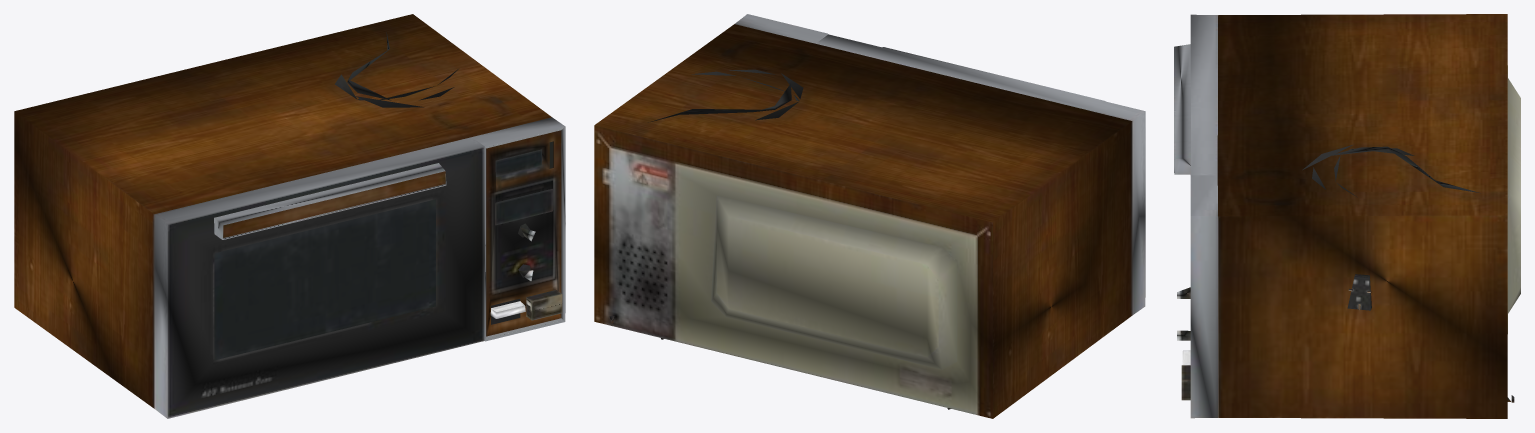
Rendered from vintage_microwave.glb.
3 renders of one model, left to right at view 1: azimuth 30°, elevation 25°; view 2: azimuth 150°, elevation 25°; view 3: azimuth 270°, elevation 25°, orthographic. The views are drawn at different scales.
Visible parts, largest first — view 1: vintage_microwave; view 2: vintage_microwave; view 3: vintage_microwave.
Boxes of the visible parts, bbox=[...] form: vintage_microwave: bbox=[14, 14, 565, 418]; vintage_microwave: bbox=[594, 14, 1145, 418]; vintage_microwave: bbox=[1174, 14, 1520, 418].
Size of the model in its own units: 1.07 by 0.52 by 0.7304.
Materials: 2 (2 with a texture image).
